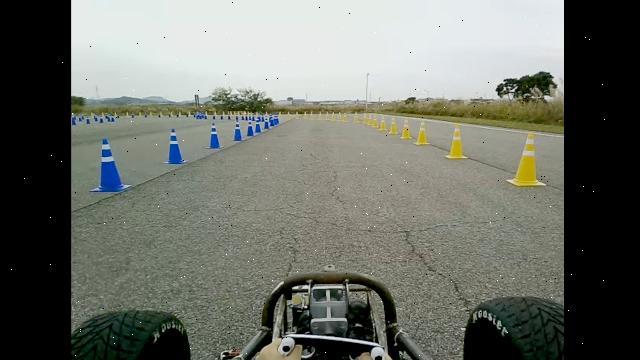blue cone: (89, 138, 131, 193), (162, 128, 189, 164), (206, 122, 223, 149), (231, 116, 243, 141), (244, 121, 254, 136)
yellow cone: (505, 132, 547, 187), (443, 123, 468, 159), (414, 121, 430, 145), (400, 119, 412, 139), (388, 117, 398, 135), (379, 118, 387, 131), (372, 116, 379, 128), (366, 115, 373, 126)
